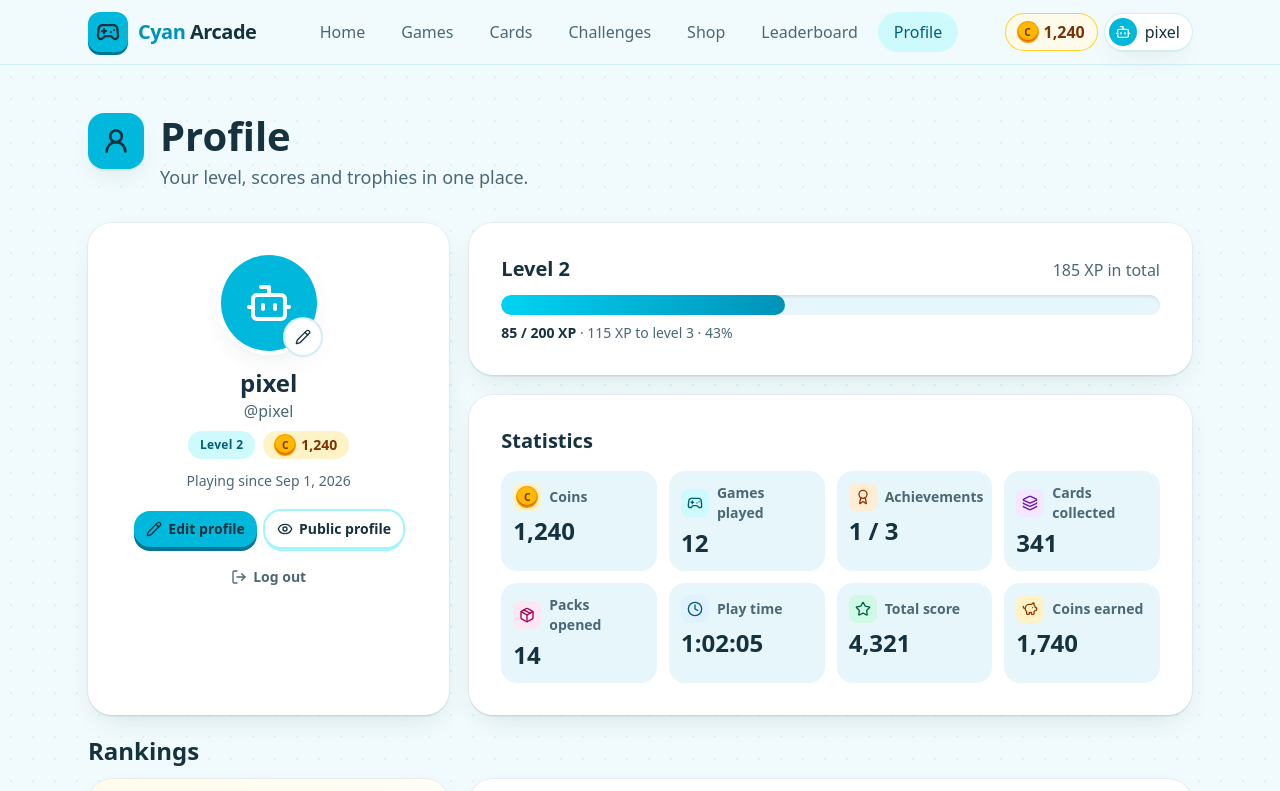
Test case: editing your profile › sends only what changed, and nothing when nothing did
This screenshot has width=1280, height=791.
Click the button "Edit profile". click: (196,529)
box: [134,511,257,547]
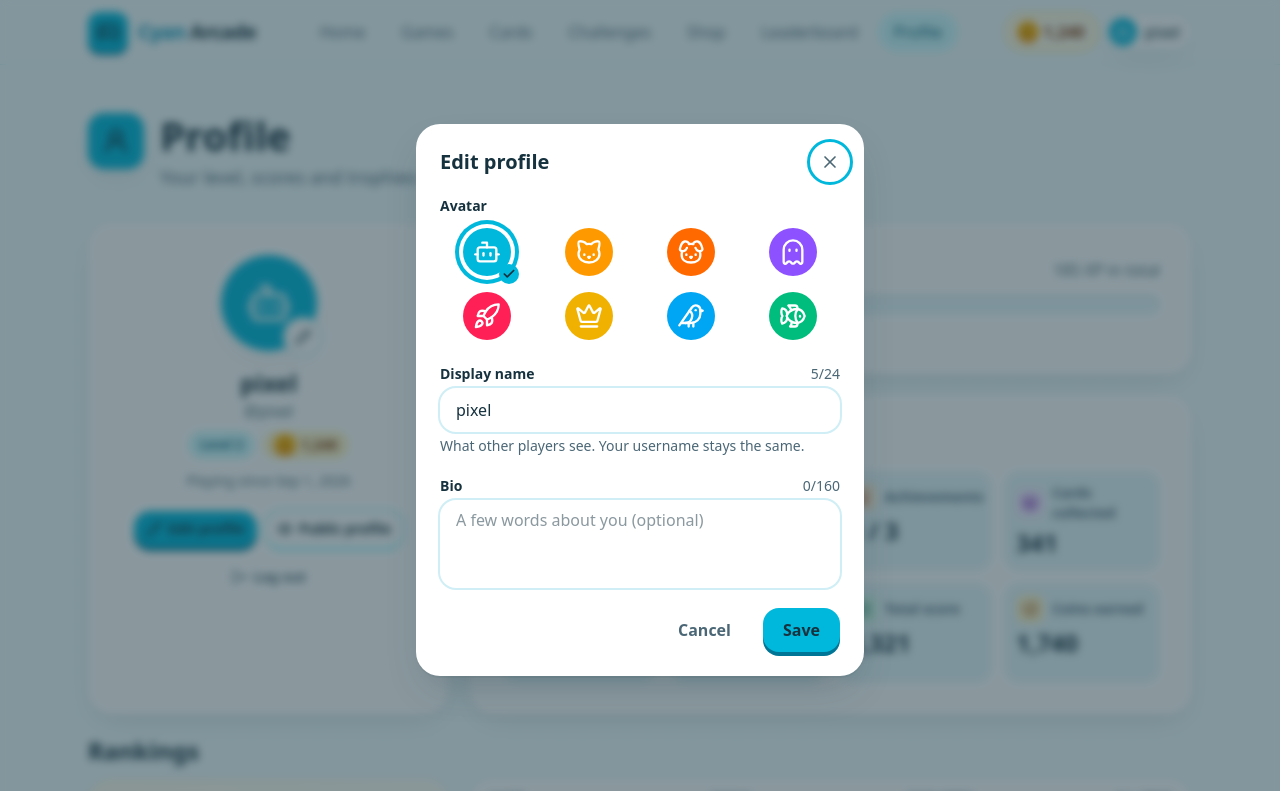
Click the button "Save". click: (802,630)
box: [763,608,840,652]
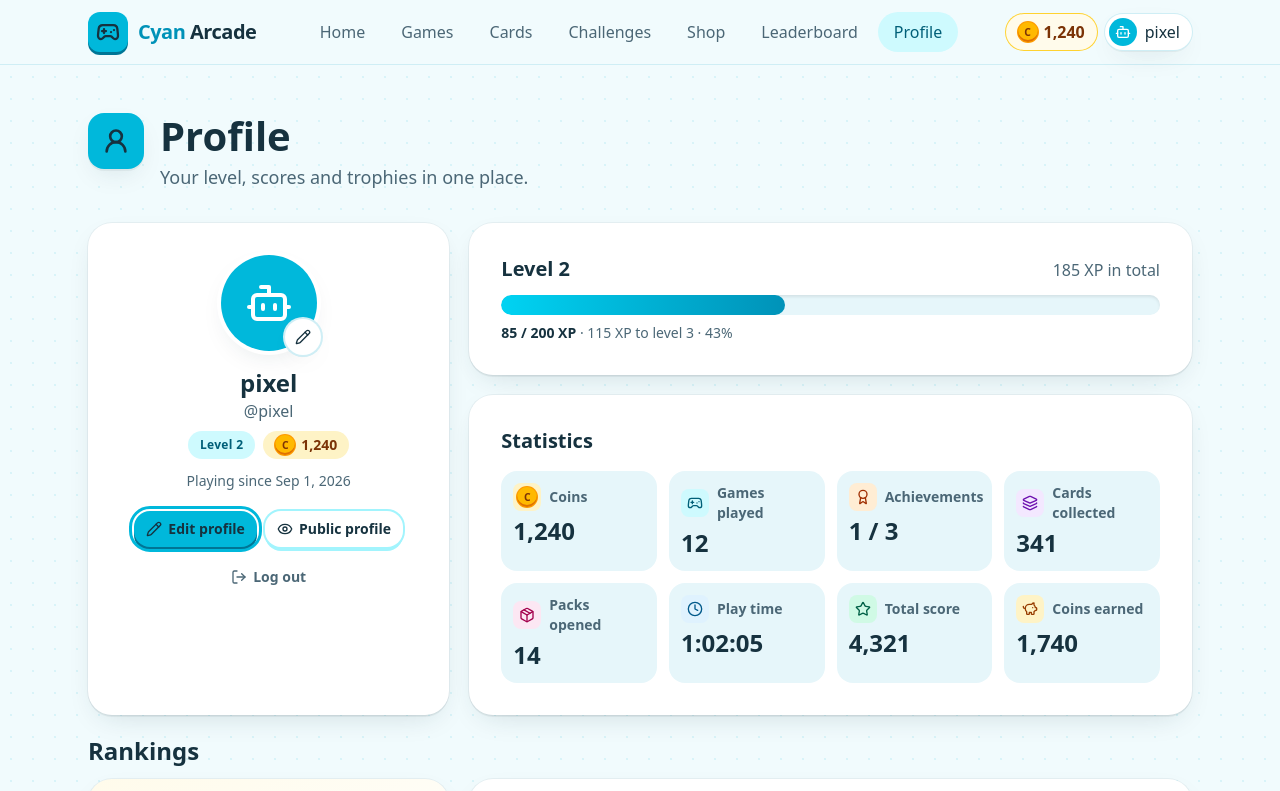
Click the button "Edit profile". click: (196,529)
box: [134,511,257,547]
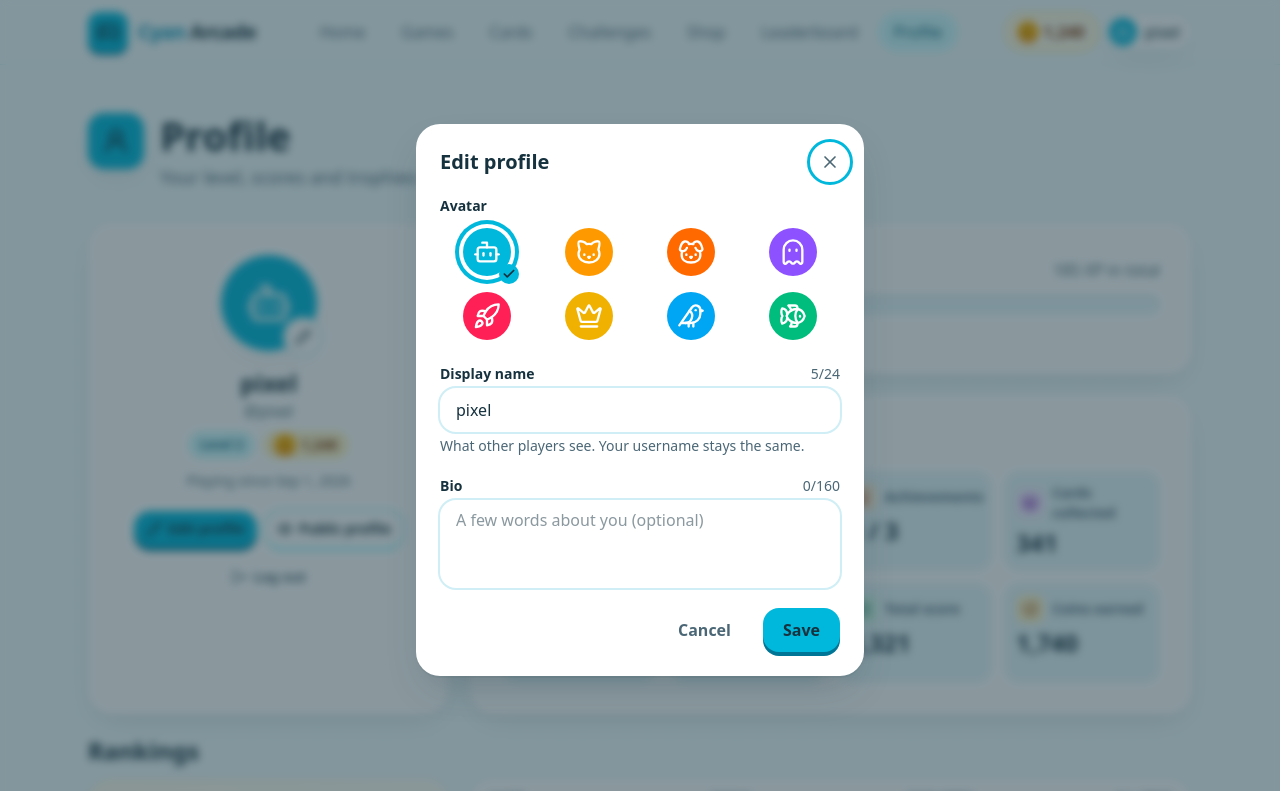
Type "Hi" into the text box labelled "Bio 0/160". click: (640,544)
box: [440,500,840,588]
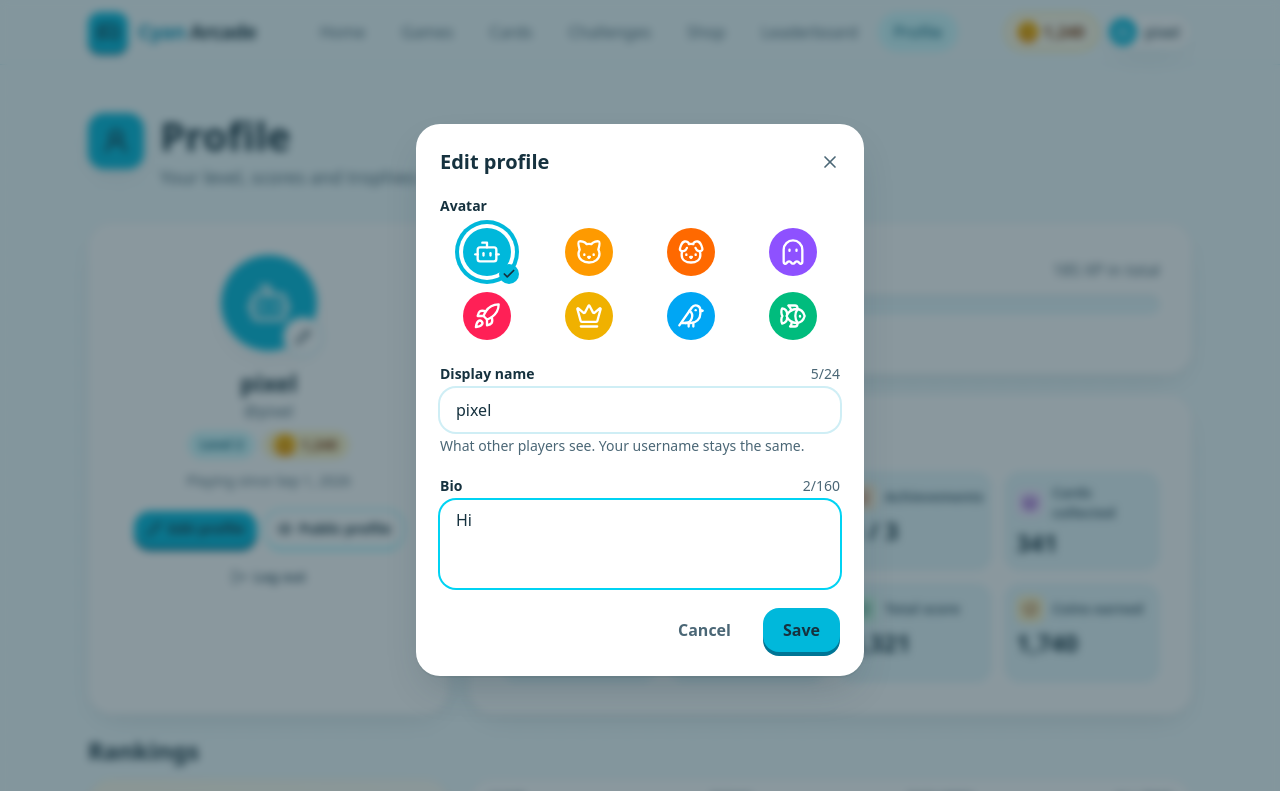
Click the button "Save". click: (802,630)
box: [763,608,840,652]
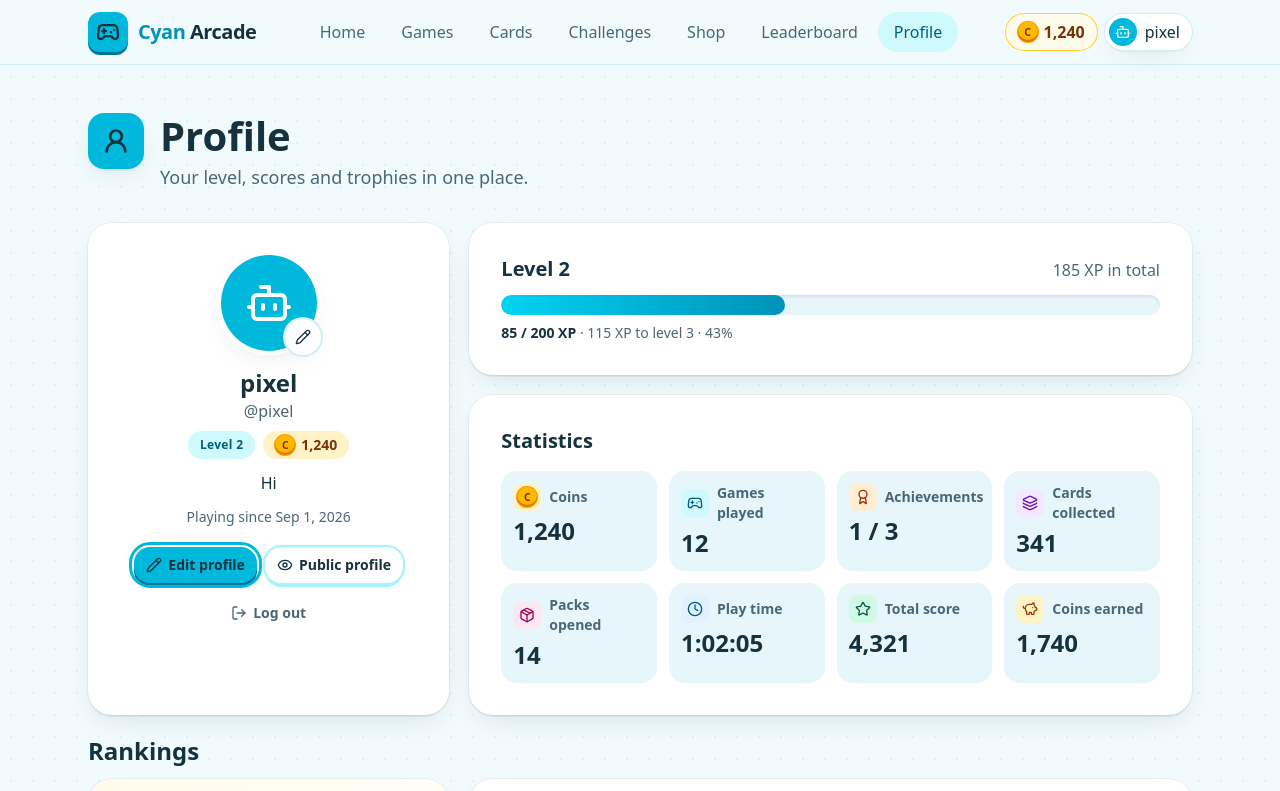
Now the text "Hi" is shown, box [261,471,277,495]
